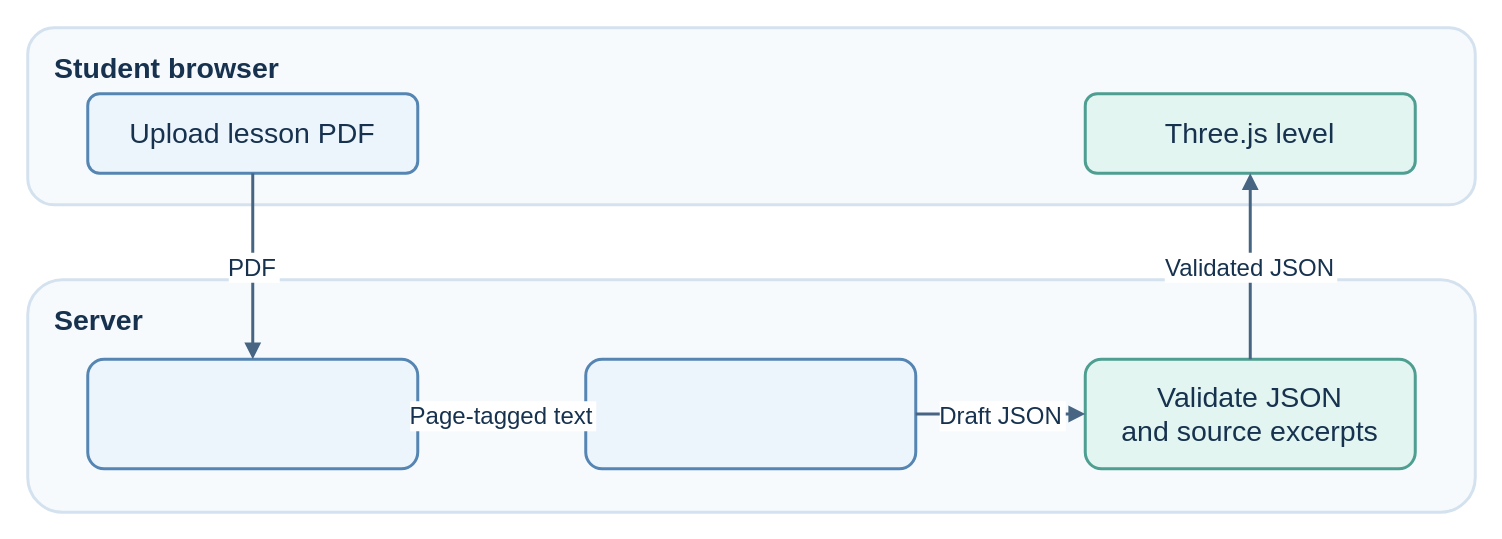
Some shapes in this 1502 by 539 pixel diagram are drawn without their labels. The centre of each missing label's shape, as x and y in pixels:
"Extract text and page numbers" belongs at (252,413).
"Generate mission with a language model" belongs at (750,413).
